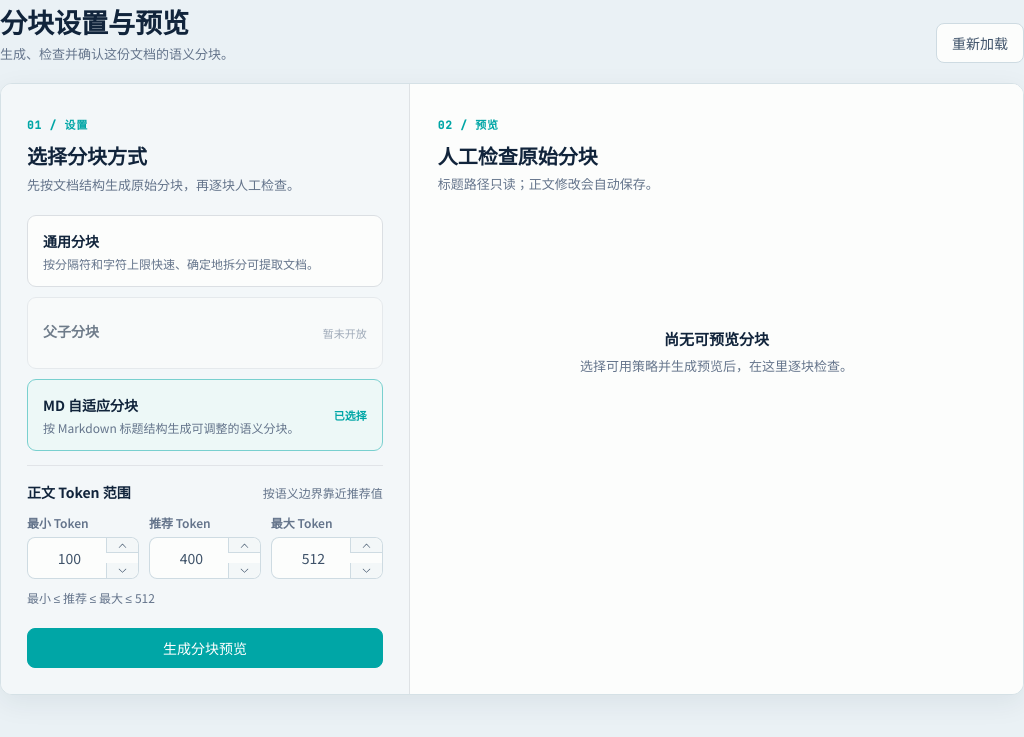
Scenario: ChunkingWorkspace › keeps independent GENERAL and Markdown form state and submits actual delimiters with context
The width and height of the screenshot is (1024, 737).
Click the button "通用分块 按分隔符和字符上限快速、确定地拆分可提取文档。" at (71, 241), box [27,215,383,287]
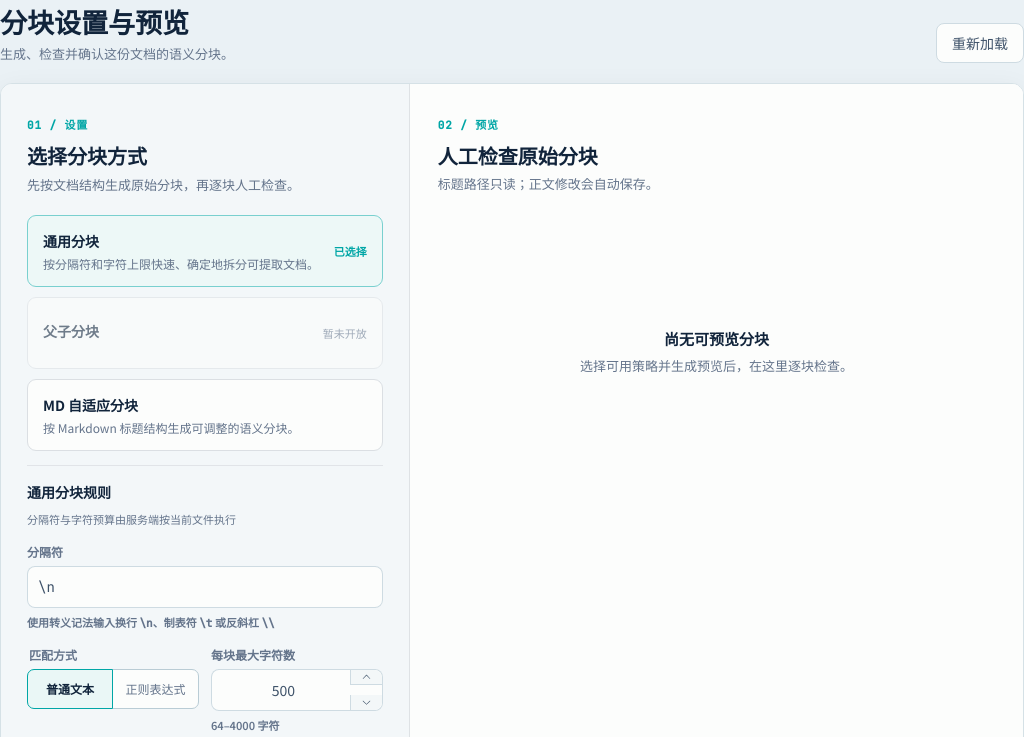
Replace the text in the field labelled "分隔符 使用转义记法输入换行 \\n、制表符 \\t 或反斜杠 \\\\" with "\\n\\n" at (205, 587), box [38,567,372,607]
Replace the text in the number field labelled "每块最大字符数 64–4000 字符" with "800" at (283, 690), box [226,670,341,710]
Click the button "MD 自适应分块 按 Markdown 标题结构生成可调整的语义分块。" at (91, 405), box [27,379,383,451]
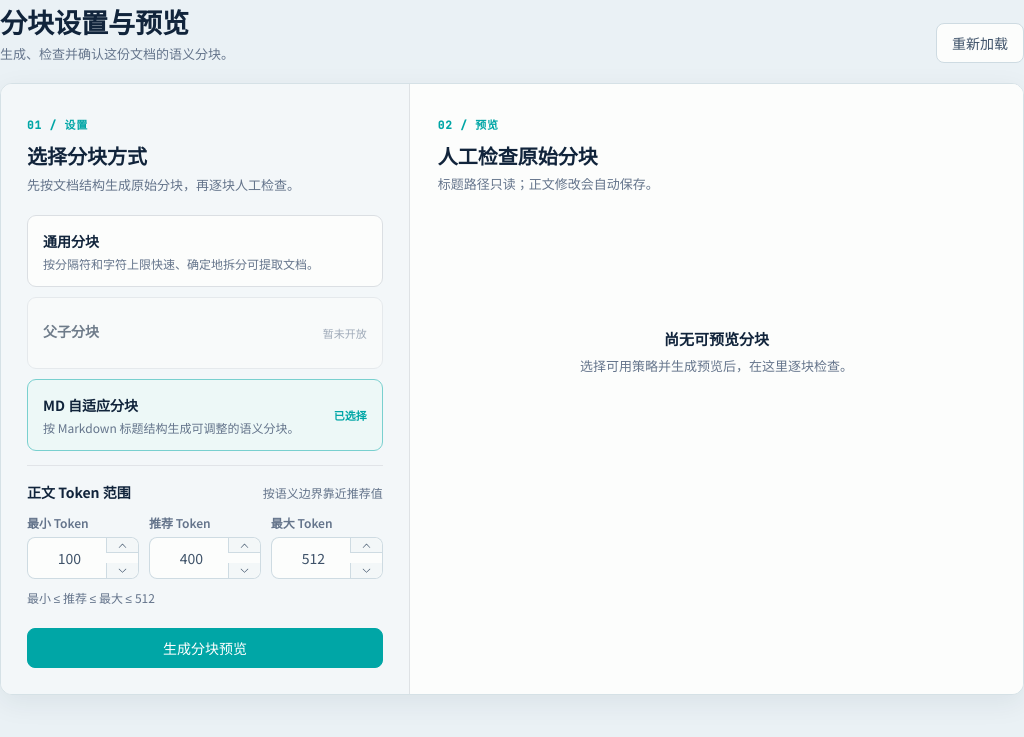
Replace the text in the number field labelled "最小 Token" with "80" at (69, 558), box [42,538,97,578]
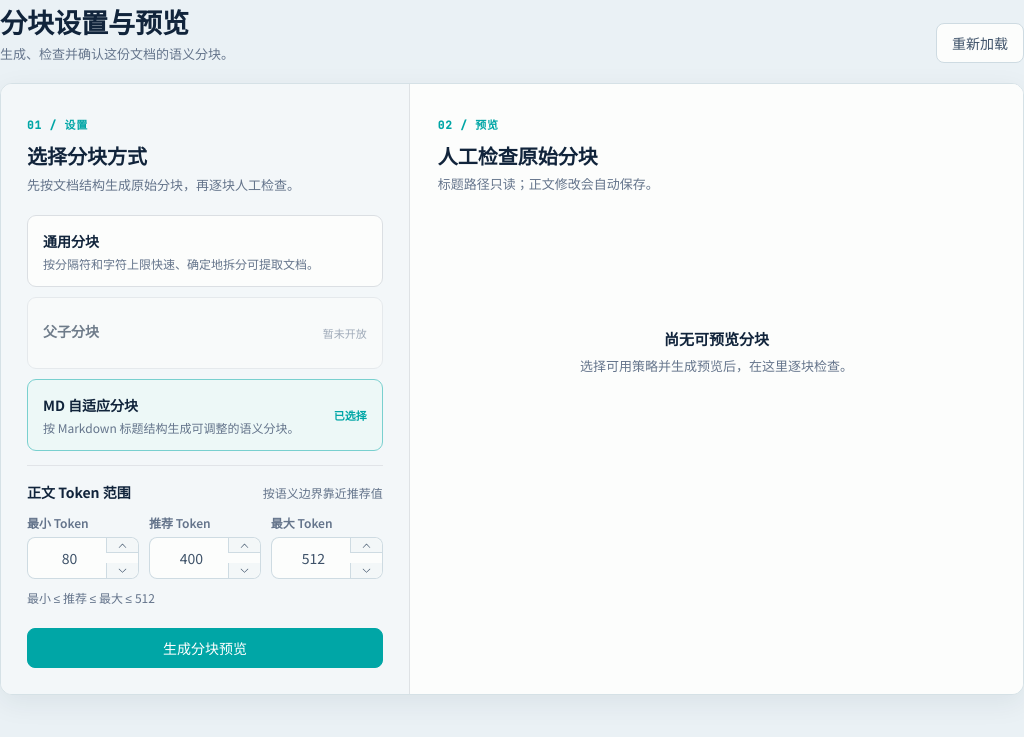
Click the button "通用分块 按分隔符和字符上限快速、确定地拆分可提取文档。" at (71, 241), box [27,215,383,287]
(page scrolled)
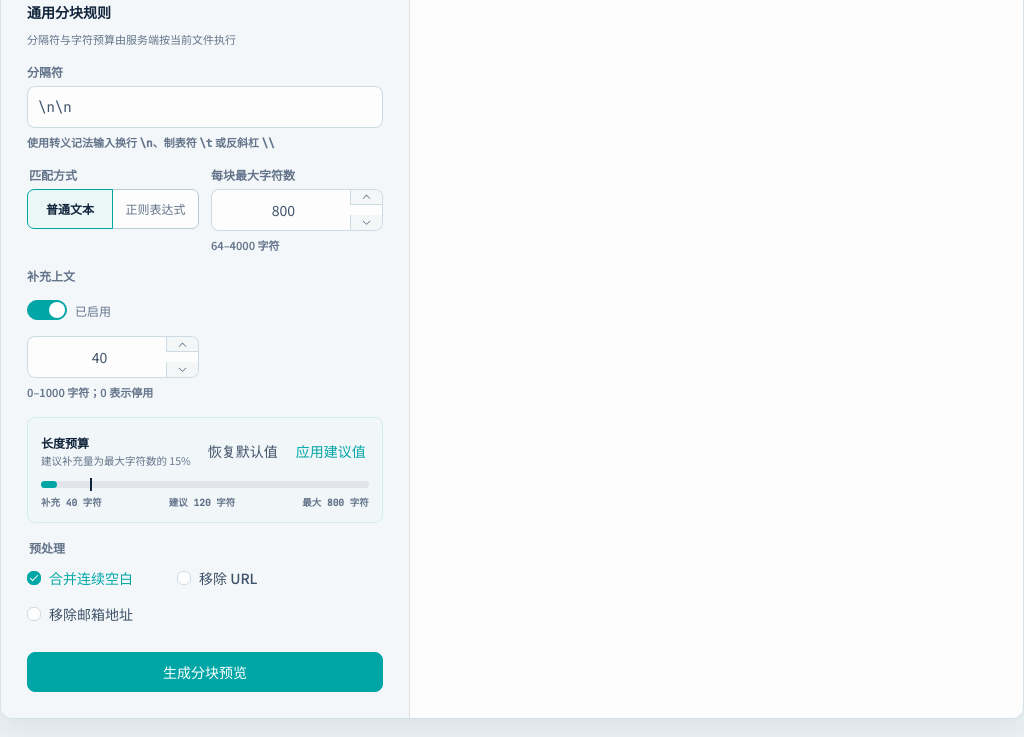
Expected: the field labelled "分隔符 使用转义记法输入换行 \\n、制表符 \\t 或反斜杠 \\\\" holds "\\n\\n", [38,87,372,127]
Expected: the number field labelled "每块最大字符数 64–4000 字符" holds "800", [226,190,341,230]
Click the button with test id "create-preview" at (205, 672), box [27,652,383,692]
(page scrolled)
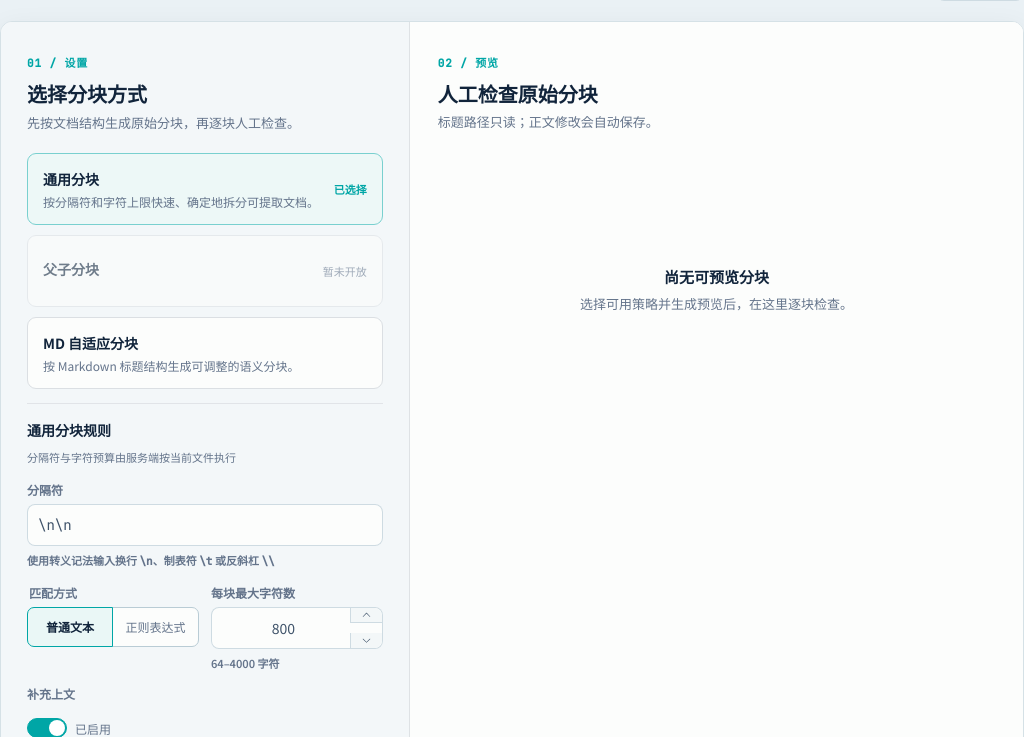
Click the button "MD 自适应分块 按 Markdown 标题结构生成可调整的语义分块。" at (91, 343), box [27,317,383,389]
(page scrolled)
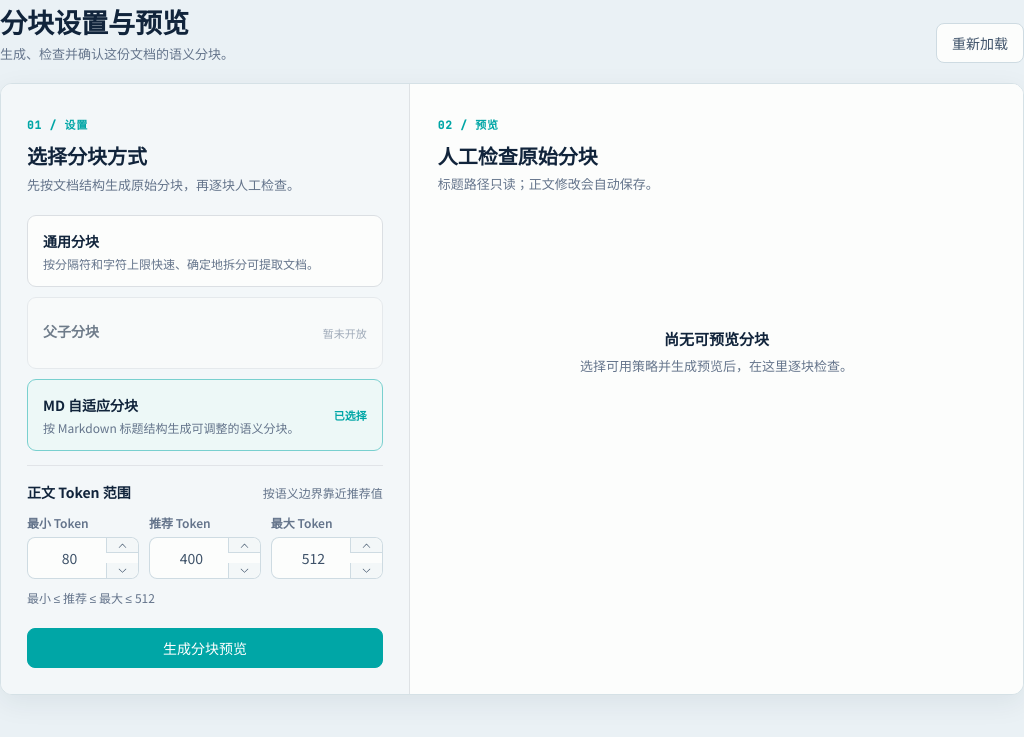
Expected: the number field labelled "最小 Token" holds "80", [42,538,97,578]
